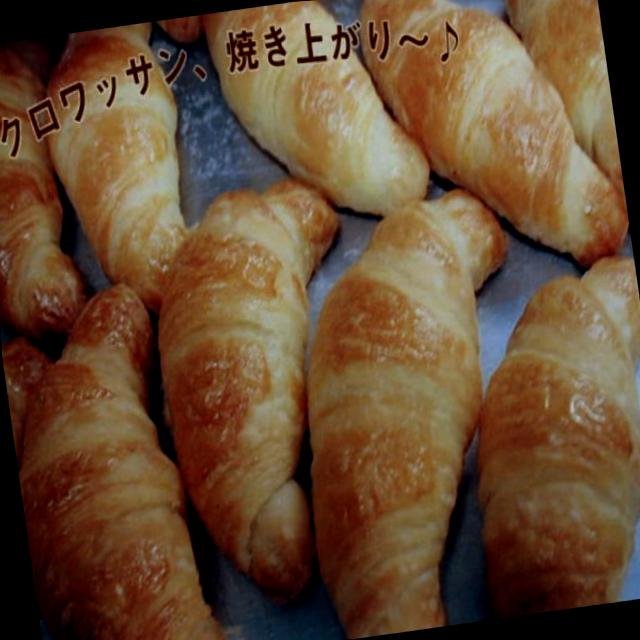Croissant: (130, 155, 374, 627)
